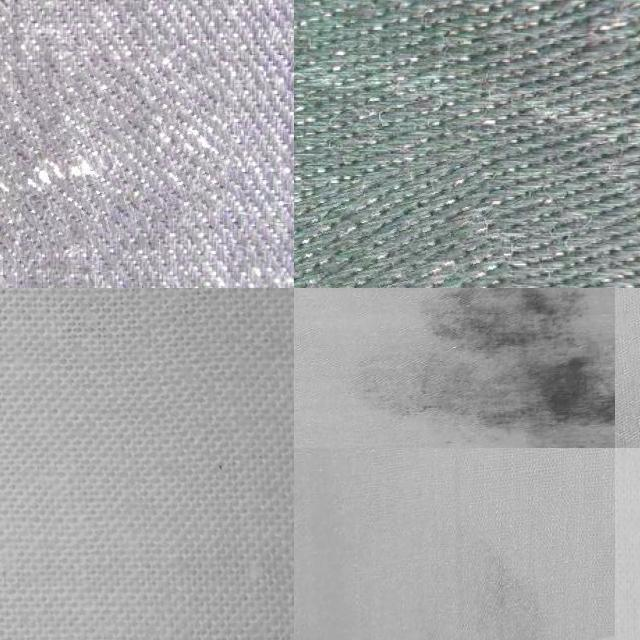Thread_other: (348, 288, 614, 448)
stains: (0, 62, 236, 266), (294, 163, 540, 288)
